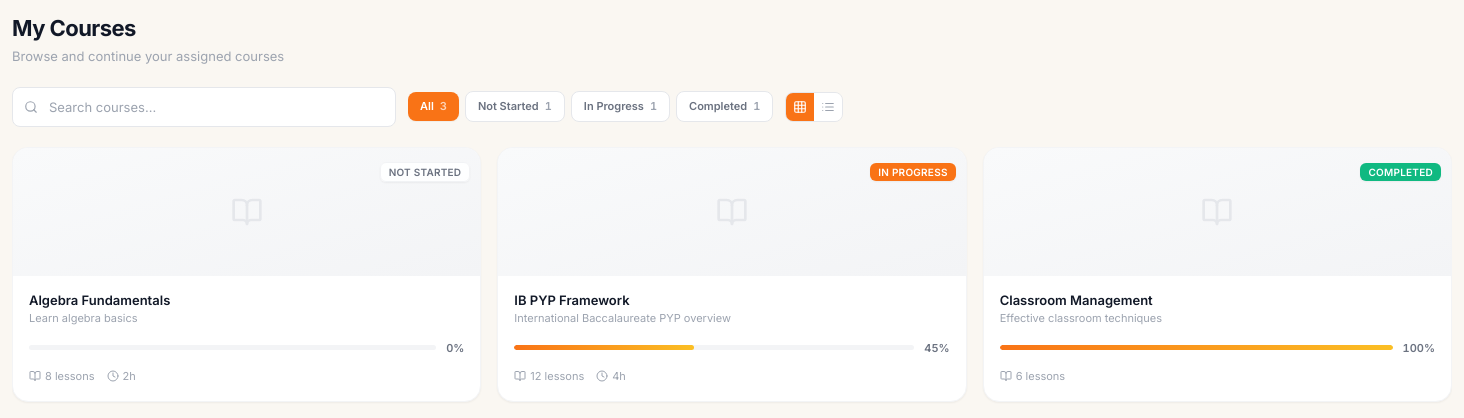
Test case: MyCoursesPage › in progress filter › shows only "IB PYP Framework" after clicking the In Progress filter
Expected: the heading "Algebra Fundamentals" is shown, 29,292 -> 170,308
Click the button "In Progress1".
click(620, 107)  # box 571,91 -> 670,122
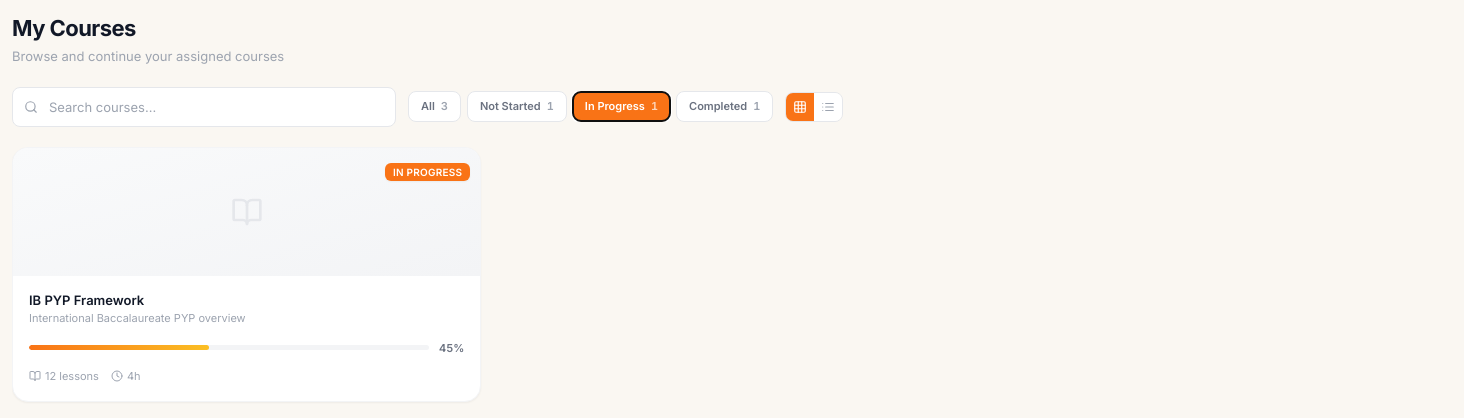
Expected: the heading "IB PYP Framework" is shown, 29,292 -> 144,308
Now the button "Algebra Fundamentals" is gone
Now the button "Classroom Management" is gone
